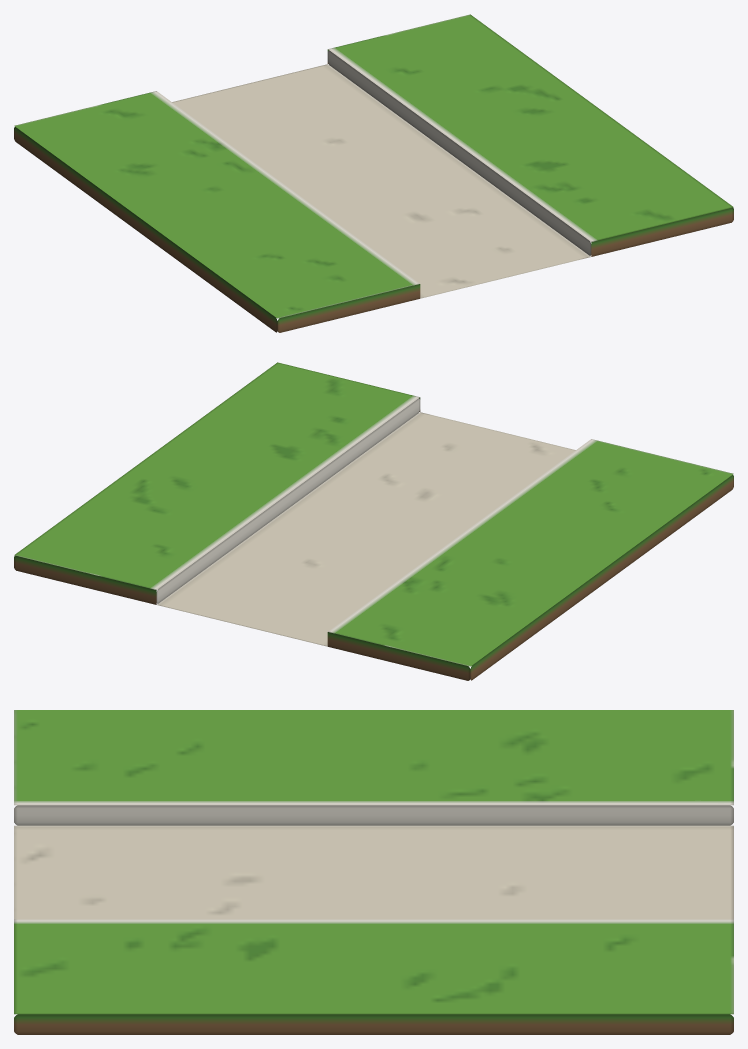
File: Parque_Camino_Recto.fbx
The picture shows the model from 3 angles, top to bottom: view 1: azimuth 30°, elevation 25°; view 2: azimuth 150°, elevation 25°; view 3: azimuth 270°, elevation 25°; orthographic projection. The views are drawn at different scales.
Visible parts, largest first — view 1: Parque_Camino_Recto; view 2: Parque_Camino_Recto; view 3: Parque_Camino_Recto.
Part boxes in pixels (x1,y1,x2,y2): Parque_Camino_Recto: (14,14,733,332); Parque_Camino_Recto: (14,362,733,680); Parque_Camino_Recto: (14,710,733,1034).
Size of the model in its own units: 3 by 0.0938 by 3.
1 material, 1 textured.
